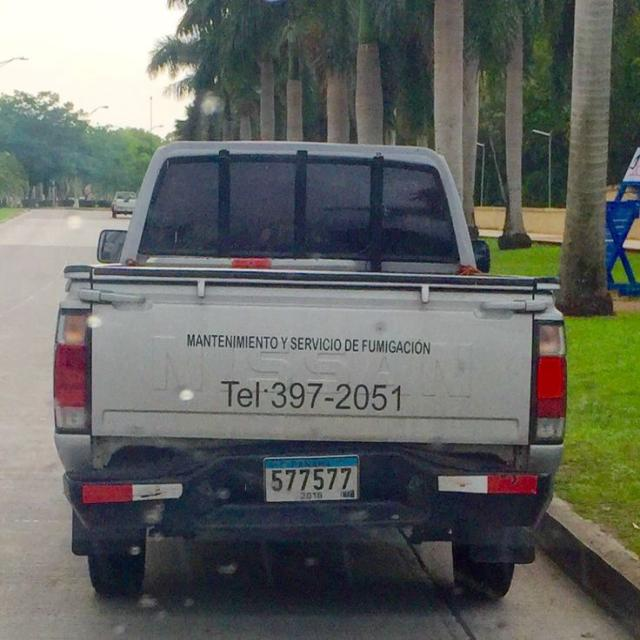Placas: (264, 452, 360, 505)
